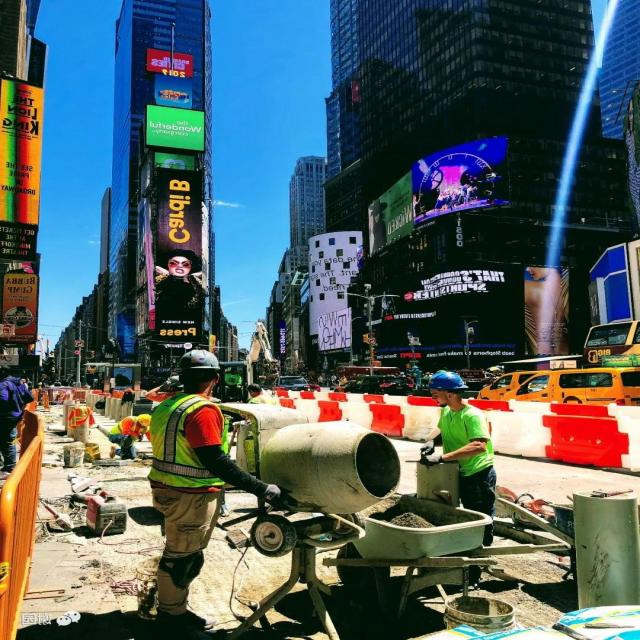Reflective-Jacket: (144, 392, 231, 493)
Safety-Helmet: (174, 348, 222, 372), (426, 370, 470, 390)
